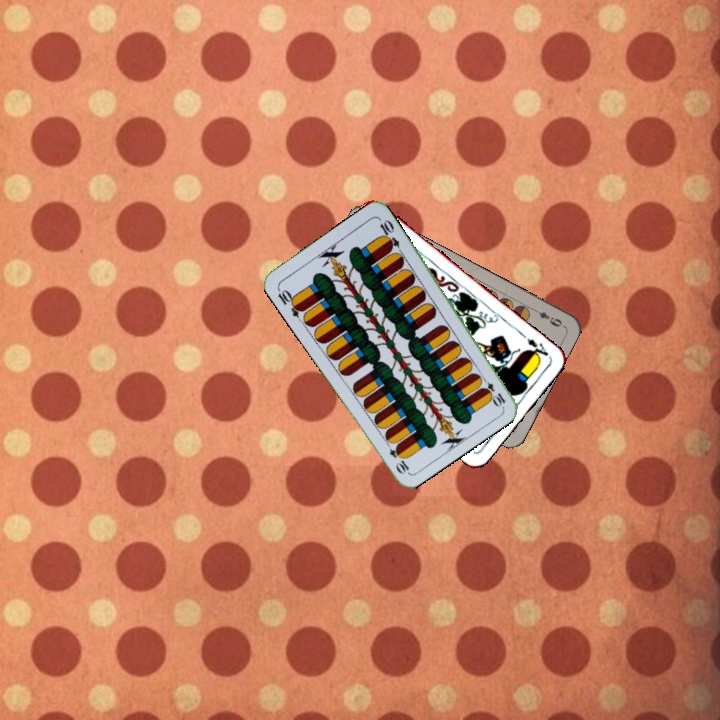E10: (273, 284, 306, 320), (477, 372, 508, 409)
E9: (529, 305, 565, 329)
EA: (523, 335, 551, 362)
